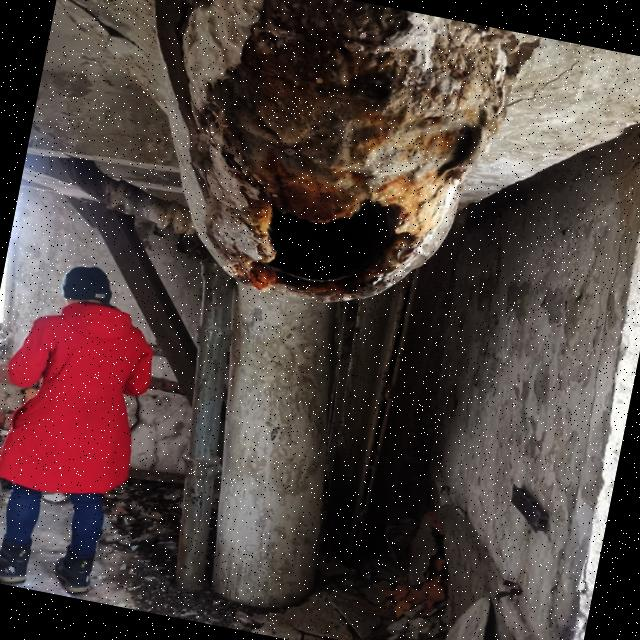NoHelmet: (56, 261, 119, 316)
